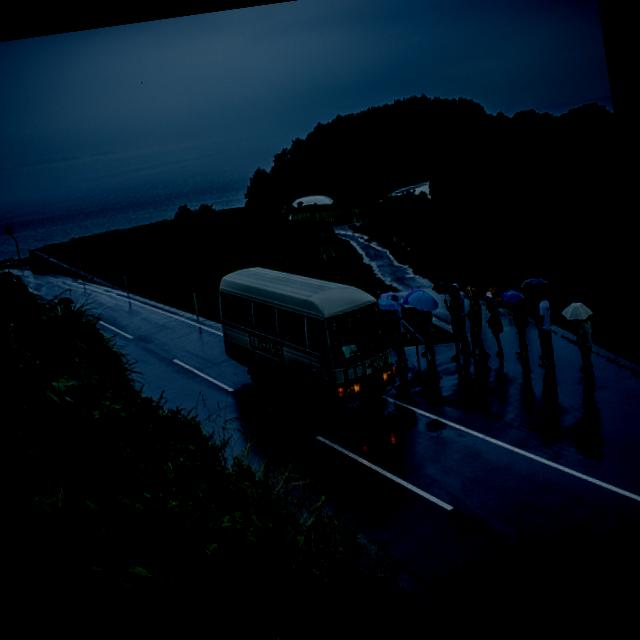Vehicle: (214, 243, 399, 440)
